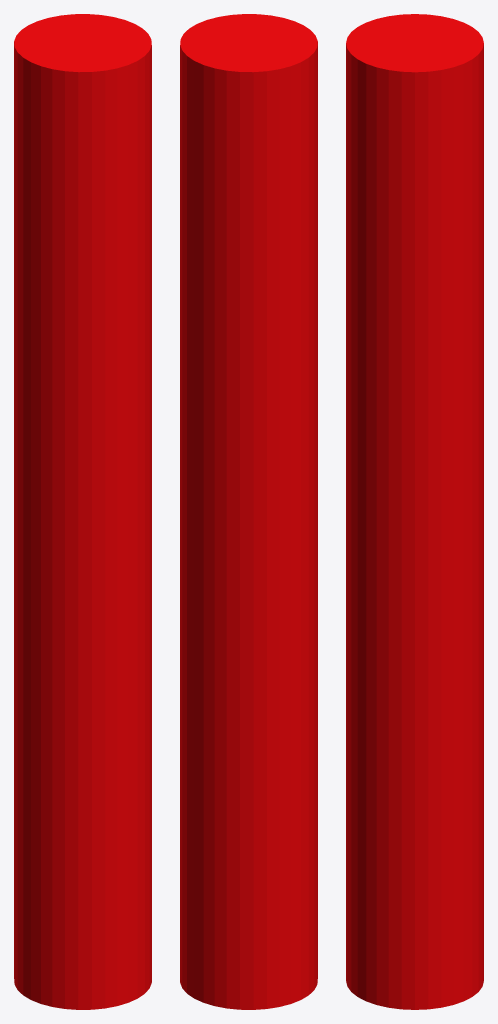
File: cylinder_red.glb
3 views of the same model, side by side, from view 1: azimuth 30°, elevation 25°; view 2: azimuth 150°, elevation 25°; view 3: azimuth 270°, elevation 25° (orthographic).
Visible parts, largest first — view 1: Cylinder; view 2: Cylinder; view 3: Cylinder.
Boxes of the visible parts, <box> form: Cylinder: <box>14,14,151,1009</box>; Cylinder: <box>180,14,317,1009</box>; Cylinder: <box>346,14,483,1009</box>.
Size of the model in its own units: 0.2 by 1.5 by 0.2.
